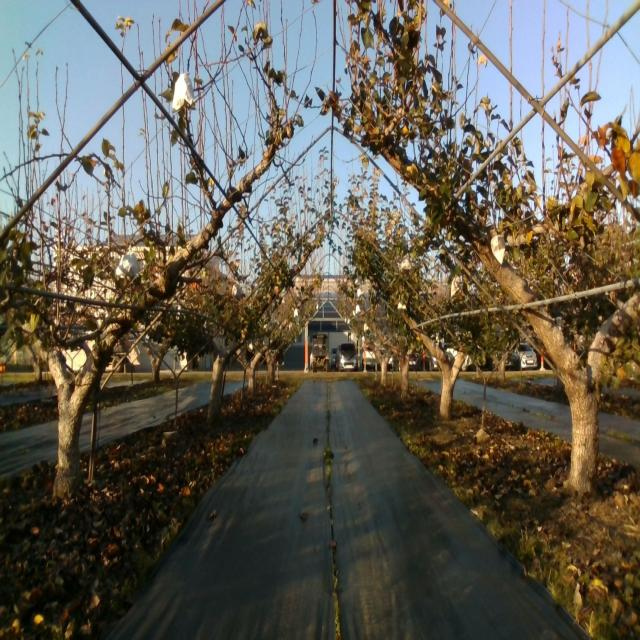pearbags: (172, 72, 195, 112), (118, 244, 139, 277), (490, 233, 505, 264), (450, 276, 462, 299)
